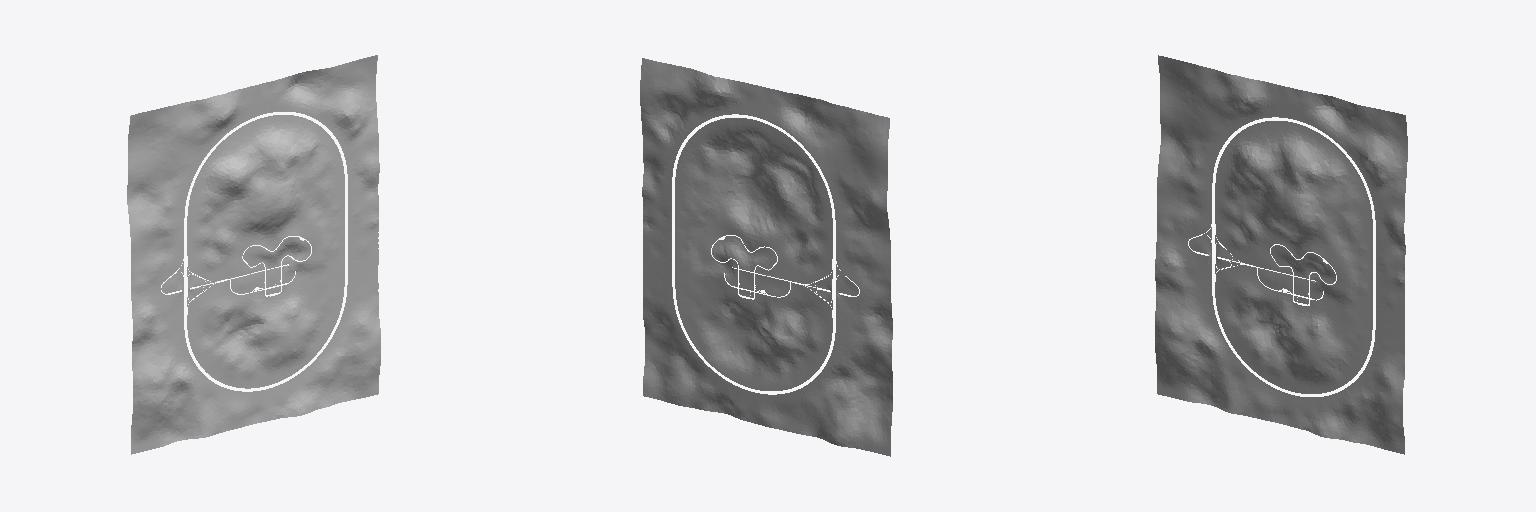
File: CityRuralHighway.obj
3 views of the same model, side by side, from view 1: azimuth 30°, elevation 25°; view 2: azimuth 150°, elevation 25°; view 3: azimuth 330°, elevation 25° (orthographic).
Parts seen in each view (by area): view 1: Background; view 2: Background; view 3: Background.
Part boxes in pixels (left/top/right/bottom): Background: left=127, top=55, right=380, bottom=454; Background: left=640, top=58, right=892, bottom=456; Background: left=1155, top=55, right=1407, bottom=454.
Bounding box in the file's own units: 2479 × 3237 × 196.